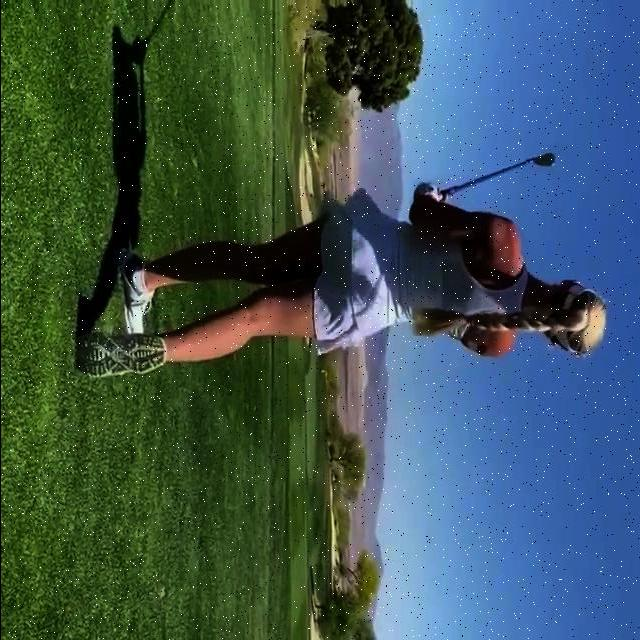golf club-handle: (439, 154, 554, 196)
golf club-head: (533, 154, 554, 169)
